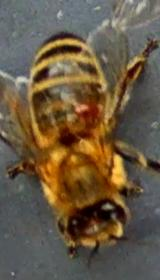varroa_mite: (66, 90, 105, 138)
